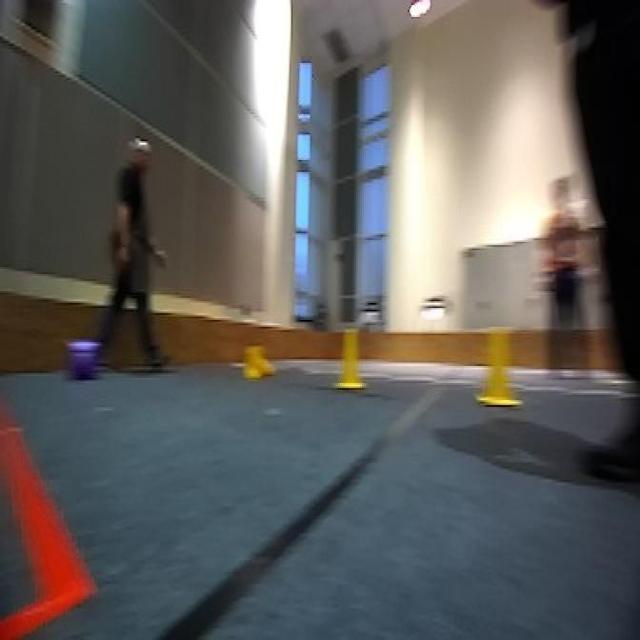frc_cone: (472, 325, 526, 410), (332, 327, 368, 390), (244, 346, 273, 381)
frc_cube: (69, 334, 101, 383)
